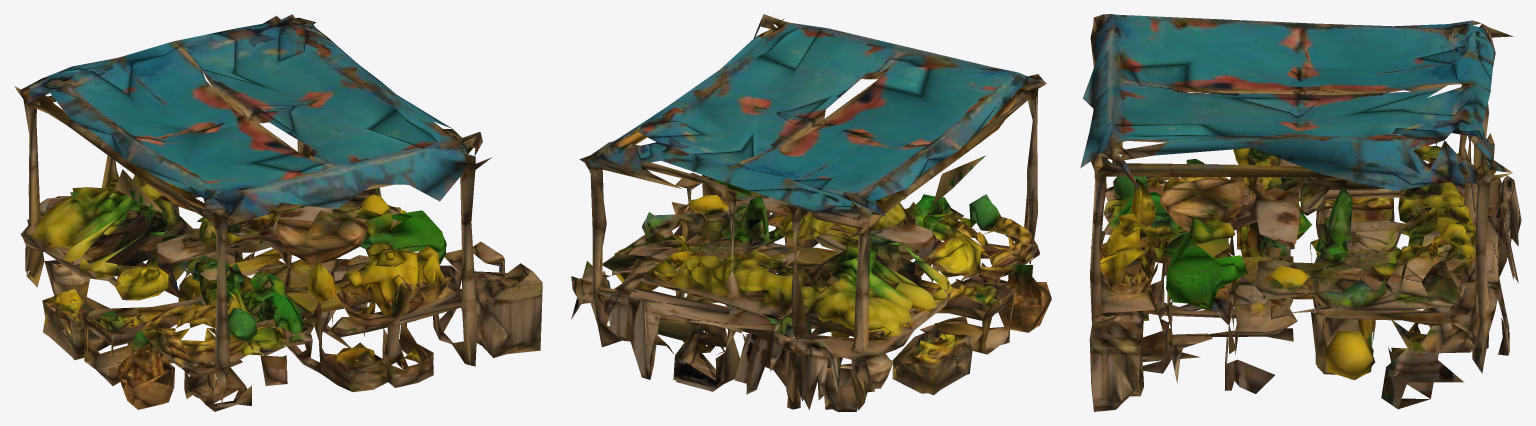
File: fruit-stall.glb
3 renders of one model, left to right at view 1: azimuth 30°, elevation 25°; view 2: azimuth 150°, elevation 25°; view 3: azimuth 270°, elevation 25°, orthographic. The views are drawn at different scales.
Parts seen in each view (by area): view 1: geometry_0; view 2: geometry_0; view 3: geometry_0.
Part boxes in pixels (left/top/right/bottom): geometry_0: left=14, top=14, right=542, bottom=411; geometry_0: left=571, top=14, right=1051, bottom=411; geometry_0: left=1080, top=14, right=1521, bottom=411.
Size of the model in its own units: 1.68 by 1 by 1.62.
1 material, 1 textured.
